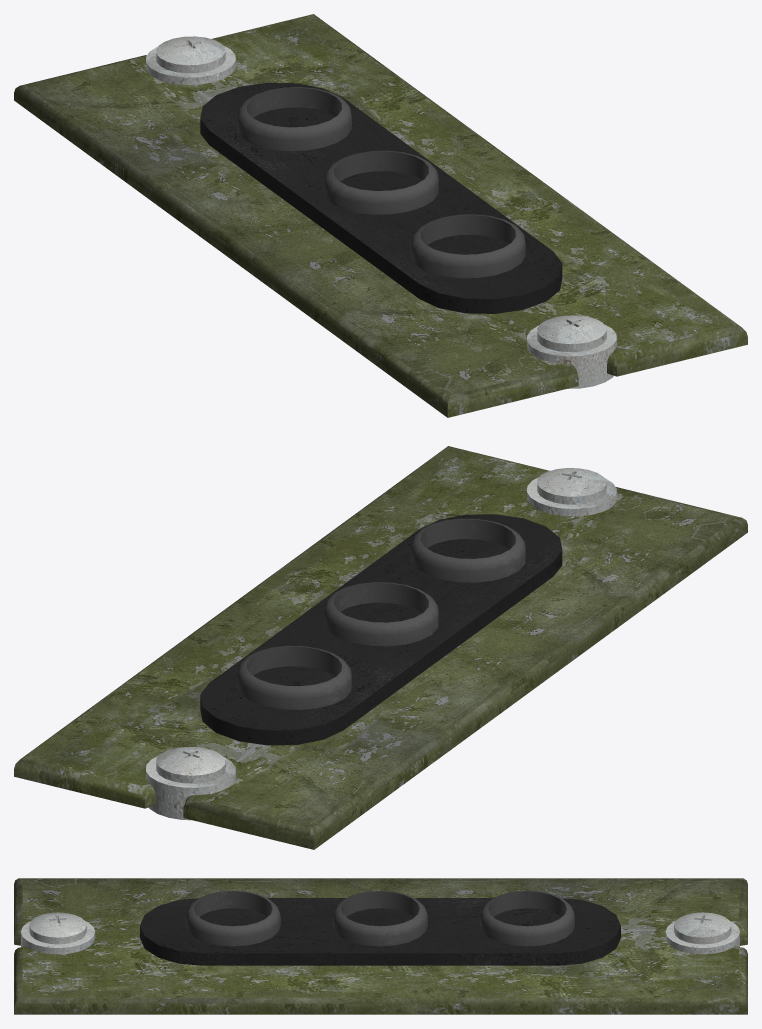
Rendered from F_RangeSelect_Frame_01.fbx.
3 renders of one model, top to bottom at view 1: azimuth 30°, elevation 25°; view 2: azimuth 150°, elevation 25°; view 3: azimuth 270°, elevation 25°, orthographic. The views are drawn at different scales.
Visible parts, largest first — view 1: F_RangeSelect_Frame_01; view 2: F_RangeSelect_Frame_01; view 3: F_RangeSelect_Frame_01.
Boxes of the visible parts, box(x1,y1,x2,y2) form: F_RangeSelect_Frame_01: box(14, 14, 747, 417); F_RangeSelect_Frame_01: box(14, 446, 747, 849); F_RangeSelect_Frame_01: box(14, 878, 747, 1014).
Size of the model in its own units: 27.98 by 5.3 by 70.
1 material, 1 textured.
